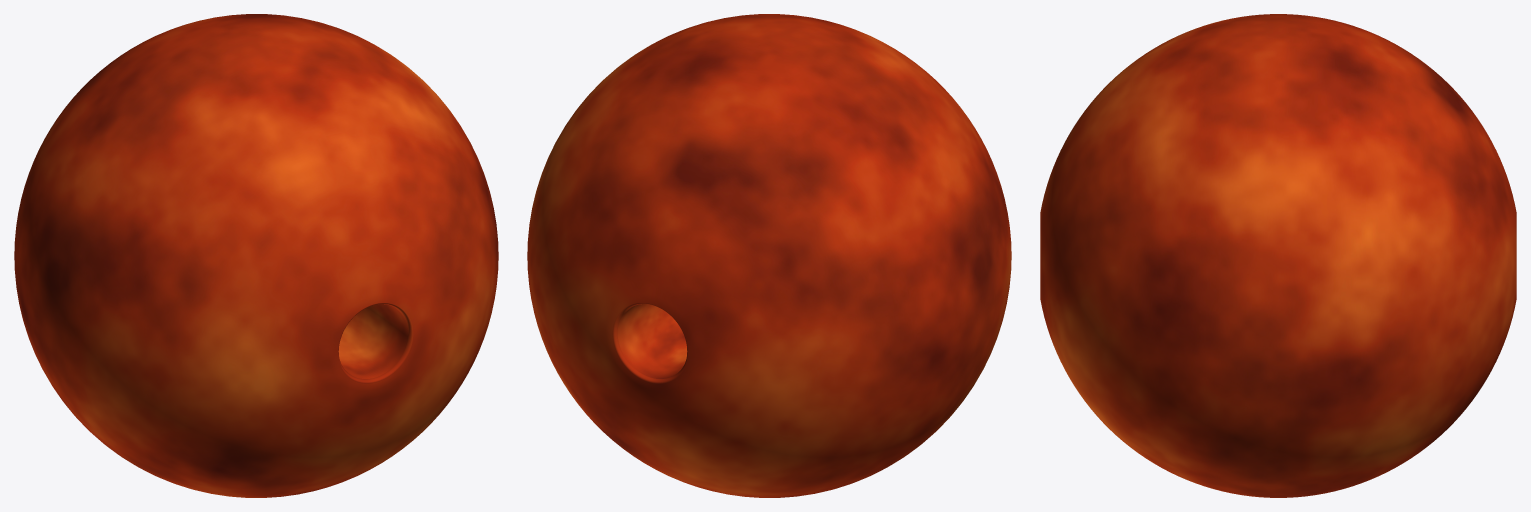
Rendered from carnelian-6mm.glb.
3 views of the same model, side by side, from view 1: azimuth 30°, elevation 25°; view 2: azimuth 150°, elevation 25°; view 3: azimuth 270°, elevation 25° (orthographic).
Visible parts, largest first — view 1: carnelian.001; view 2: carnelian.001; view 3: carnelian.001.
Part boxes in pixels (x1,y1,x2,y2): carnelian.001: (14, 14, 498, 497); carnelian.001: (527, 14, 1011, 497); carnelian.001: (1040, 14, 1516, 497).
Size of the model in its own units: 0.006 by 0.006 by 0.0059.
Materials: 2 (1 with a texture image).
